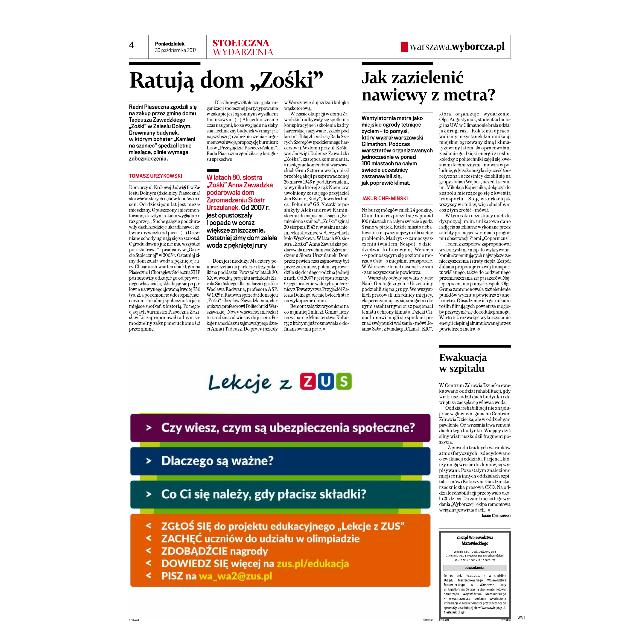article: (128, 61, 354, 336), (360, 59, 514, 335), (438, 342, 516, 518)
